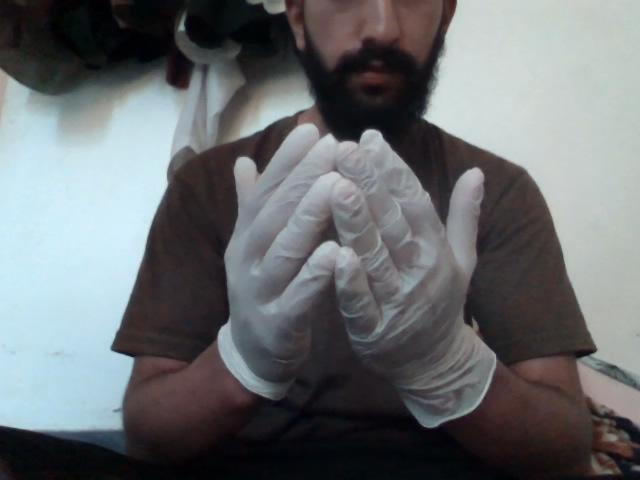gloves: (211, 114, 514, 440)
